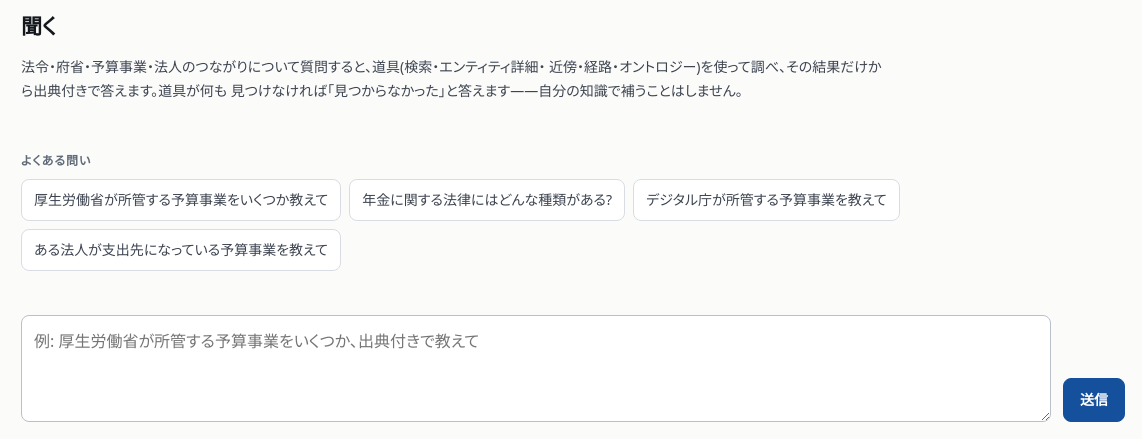
ChatPage › よくある問いのカードを押すと、送信せずに質問欄へ文言が入る
Click the button "厚生労働省が所管する予算事業をいくつか教えて".
click(181, 200)  # box [21,179,341,221]
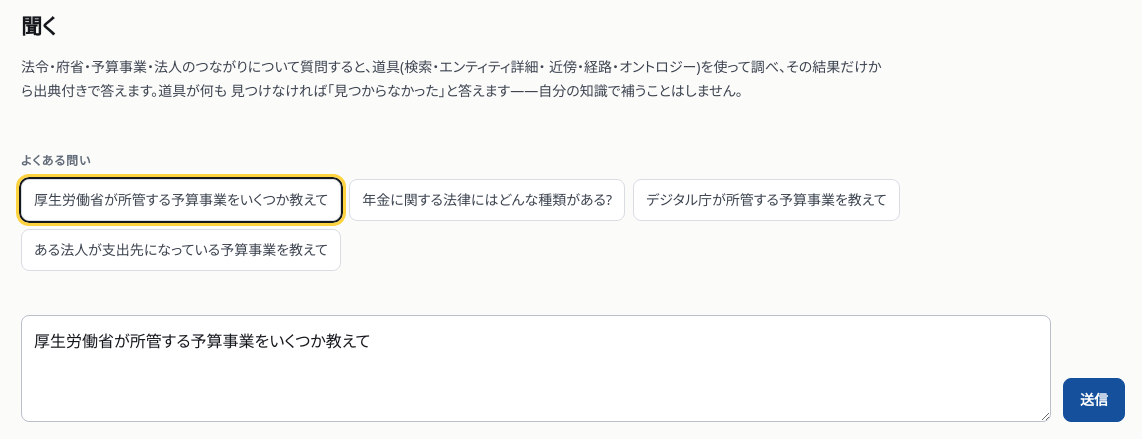
Expected: the text box named "質問" holds "厚生労働省が所管する予算事業をいくつか教えて", [21,315,1051,422]
